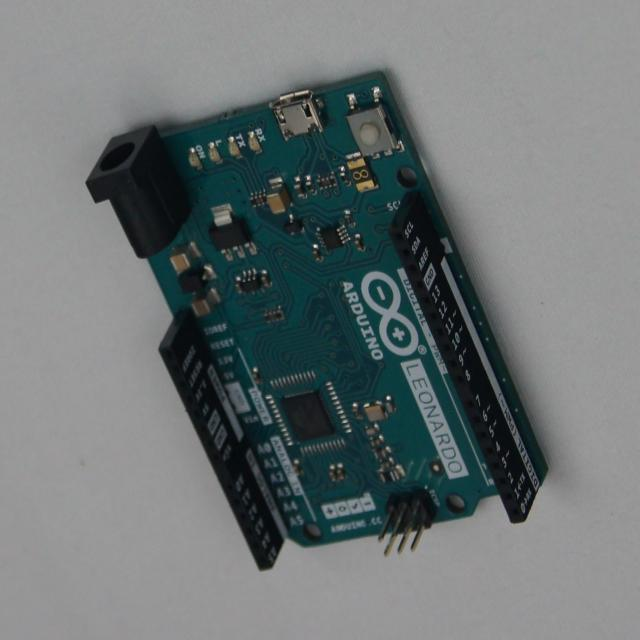Arduino-leonardo: (87, 72, 548, 571)
